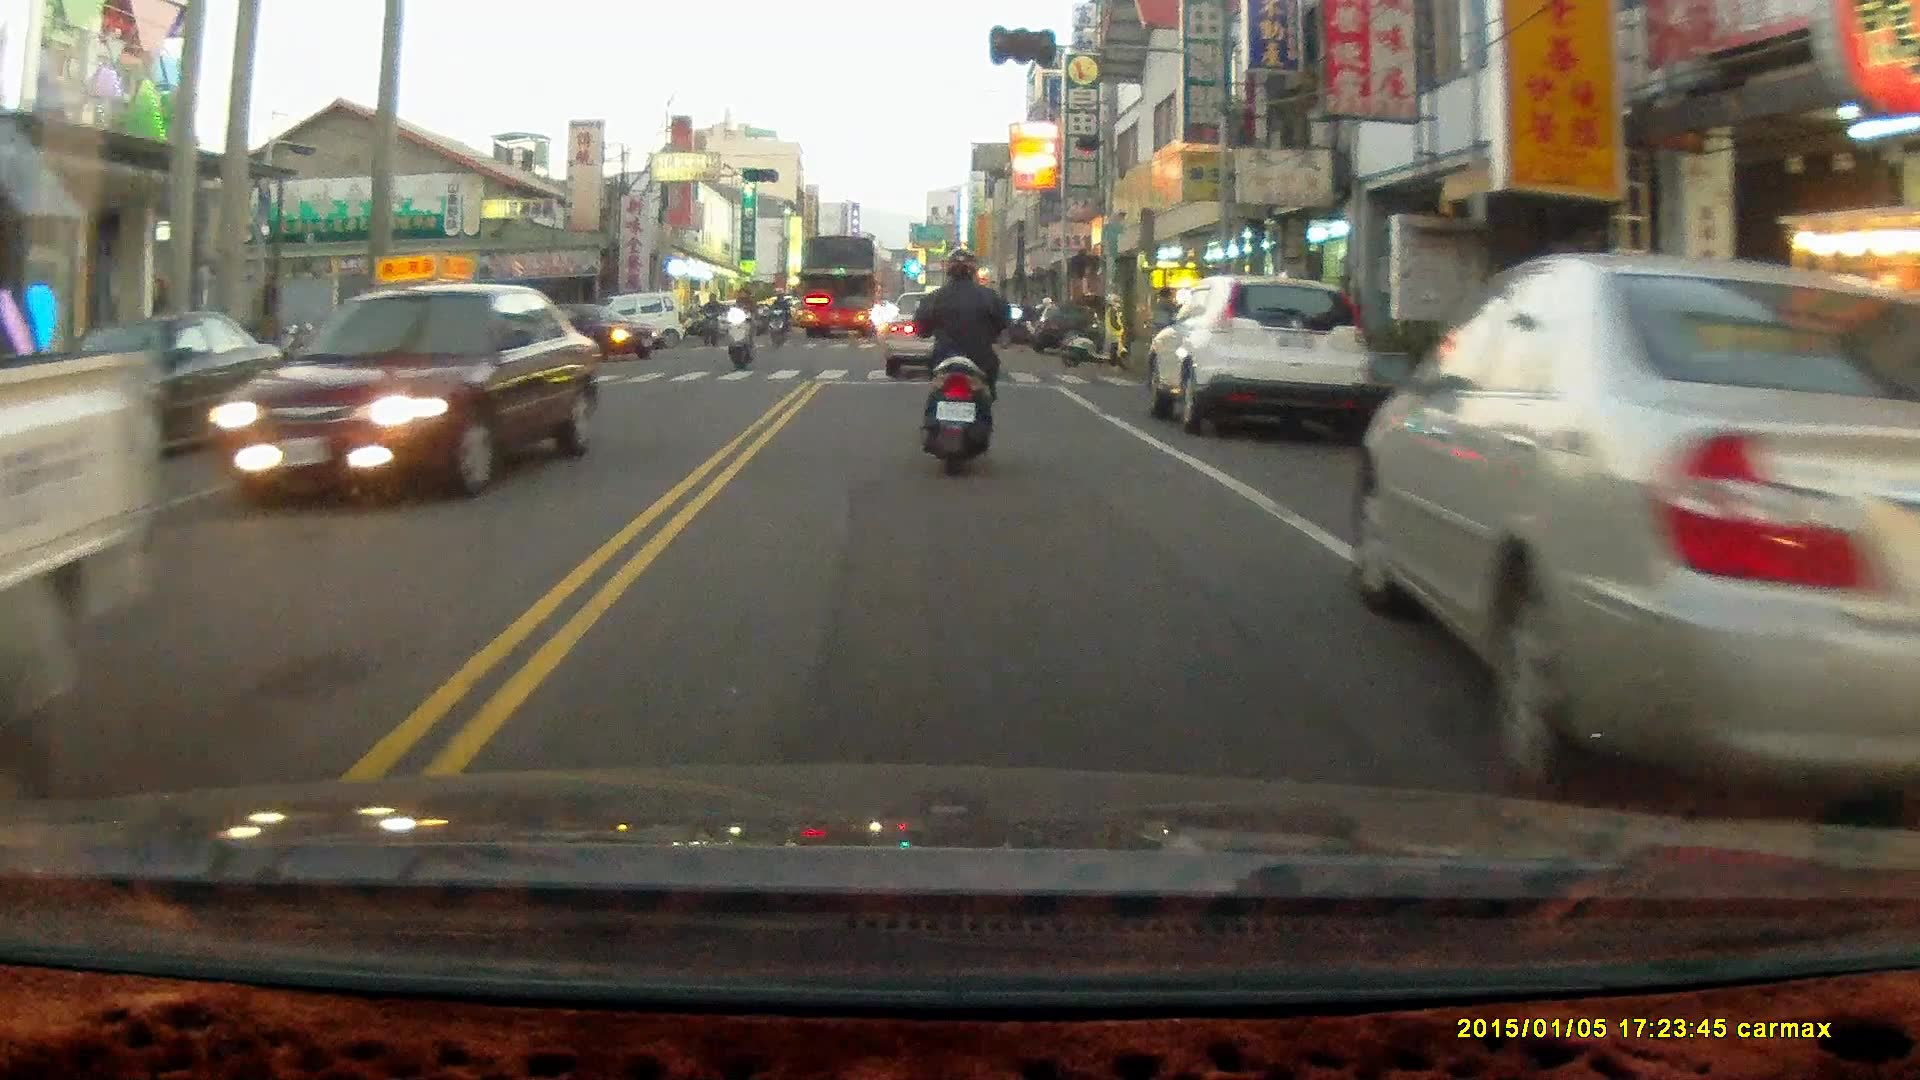pedestrian: (1098, 290, 1125, 371)
rider: (910, 243, 1023, 475), (722, 283, 757, 370), (767, 287, 788, 349), (696, 288, 719, 346)
vehicle: (1352, 248, 1919, 803), (198, 278, 610, 503), (36, 312, 276, 470), (1148, 275, 1368, 435), (796, 232, 883, 341), (882, 294, 986, 379)
